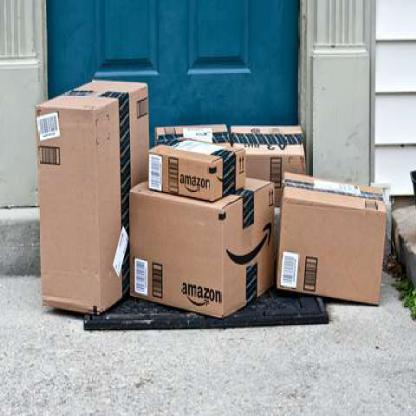package: (36, 74, 150, 318), (129, 178, 277, 318), (279, 168, 388, 311), (142, 138, 251, 203), (228, 121, 312, 178)
